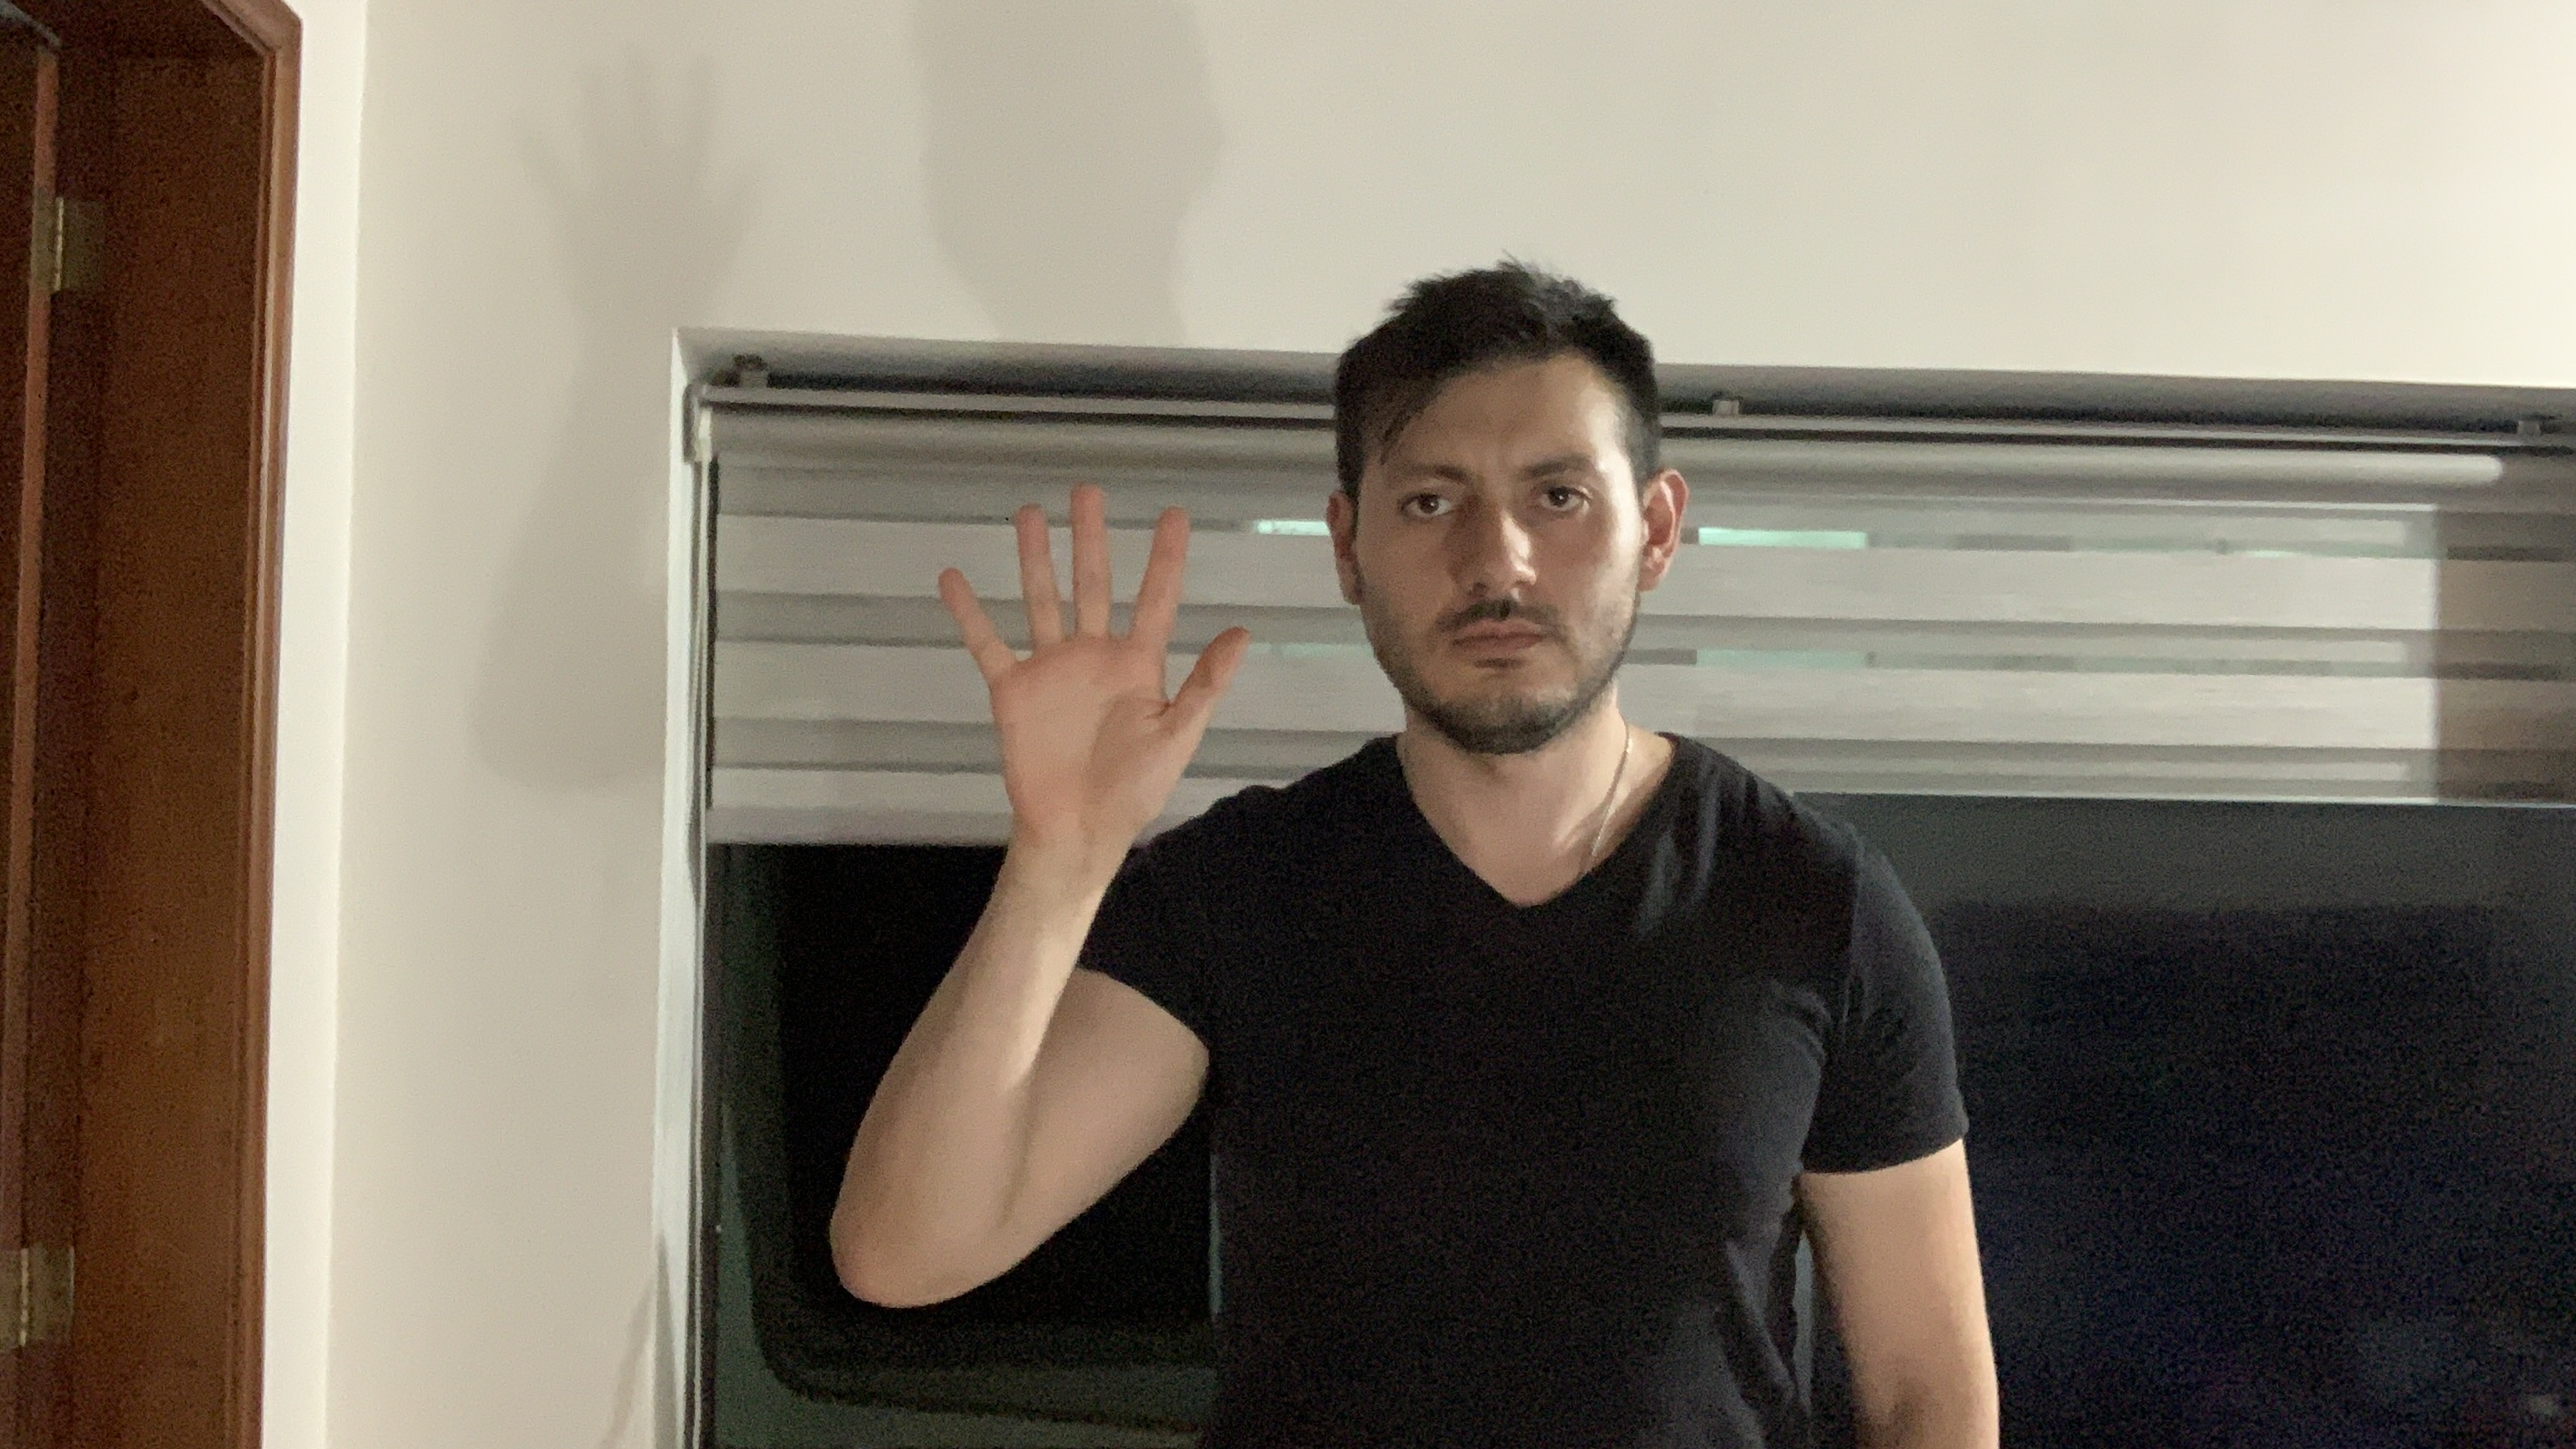Hello: (934, 472, 1265, 895)
